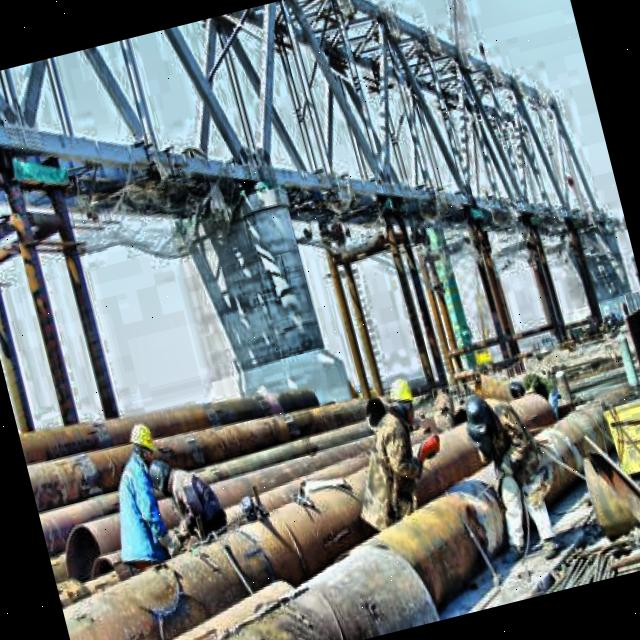helmet: (384, 372, 424, 432), (122, 418, 159, 468)
